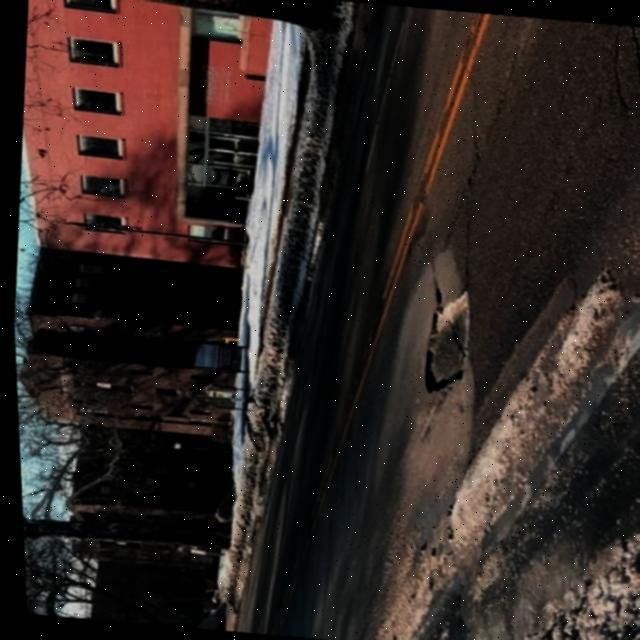pothole: (409, 286, 475, 402)
